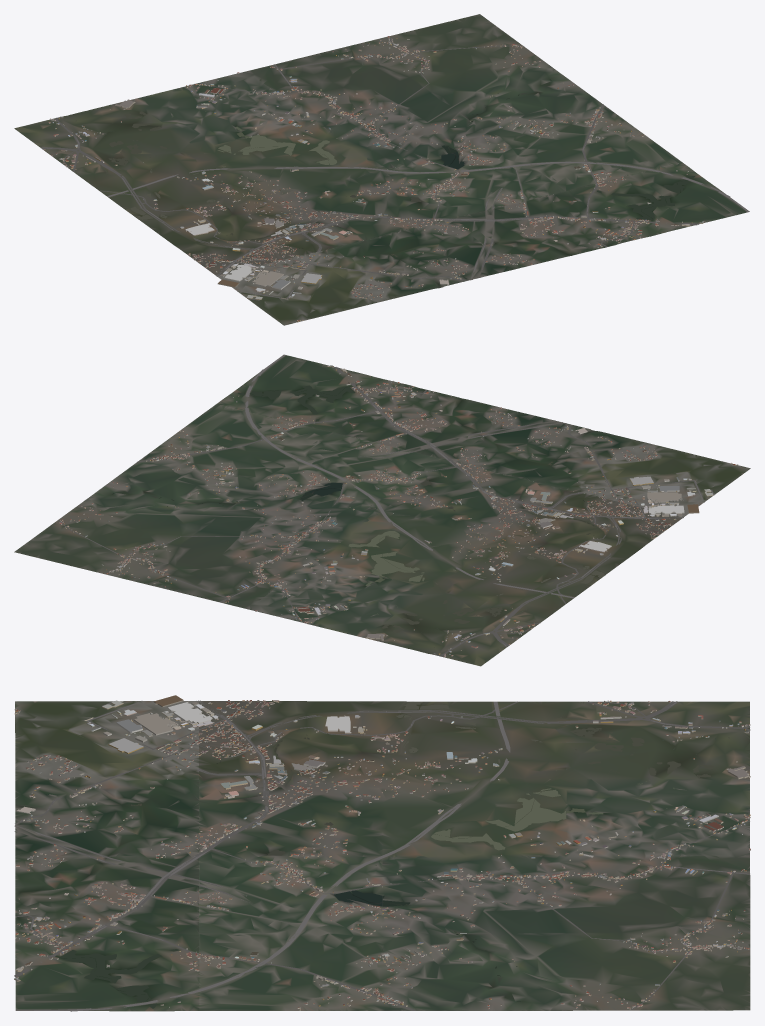
The picture shows the model from 3 angles, top to bottom: view 1: azimuth 30°, elevation 25°; view 2: azimuth 150°, elevation 25°; view 3: azimuth 270°, elevation 25°; orthographic projection. The views are drawn at different scales.
Parts seen in each view (by area): view 1: ground, buildings, roads, water; view 2: ground, buildings, roads, water; view 3: ground, buildings, roads, water.
Boxes of the visible parts, x1,y1,x2,y2 form: ground: [14, 14, 749, 325]; buildings: [43, 36, 704, 322]; roads: [40, 36, 749, 300]; water: [75, 79, 695, 256]; ground: [14, 355, 750, 666]; buildings: [59, 365, 738, 657]; roads: [58, 354, 714, 656]; water: [112, 385, 605, 647]; ground: [15, 701, 750, 1011]; buildings: [14, 695, 750, 1010]; roads: [14, 700, 750, 1011]; water: [56, 701, 748, 1008].
Bounding box in the file's own units: 5692 × 32.66 × 5624.
